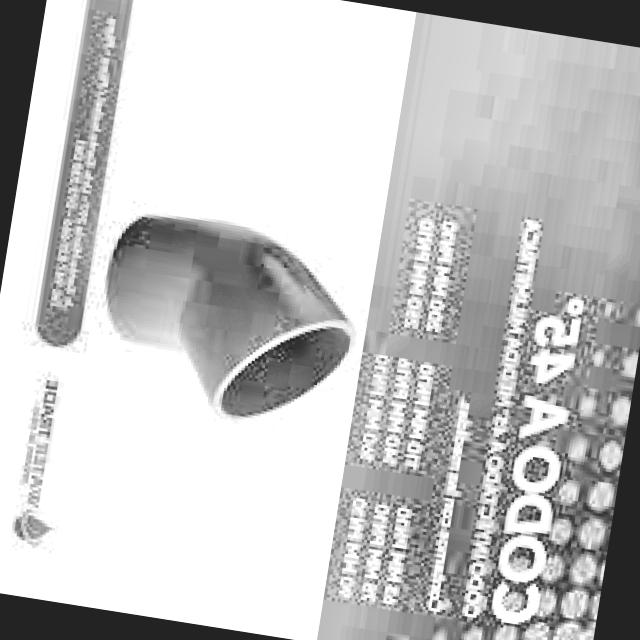ELBOW45: (102, 208, 353, 424)
